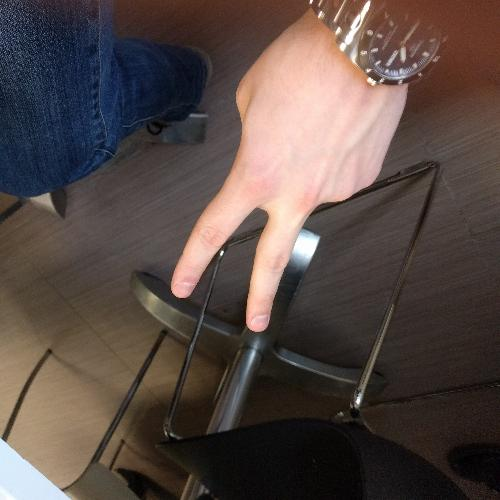scissors: (163, 7, 415, 338)
